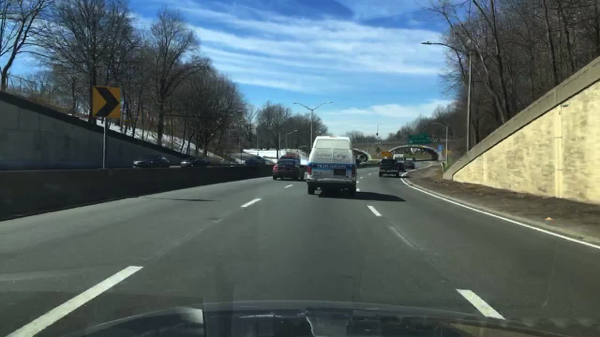car: (305, 136, 361, 195), (272, 157, 305, 183), (132, 154, 169, 168), (378, 157, 399, 177), (180, 155, 207, 167), (243, 156, 267, 166), (396, 162, 406, 173), (405, 162, 415, 169)
traffic sign: (92, 85, 122, 120), (408, 135, 431, 145), (381, 151, 390, 157), (375, 147, 381, 154), (421, 132, 427, 136), (438, 145, 441, 152)
truck: (392, 154, 404, 162)
